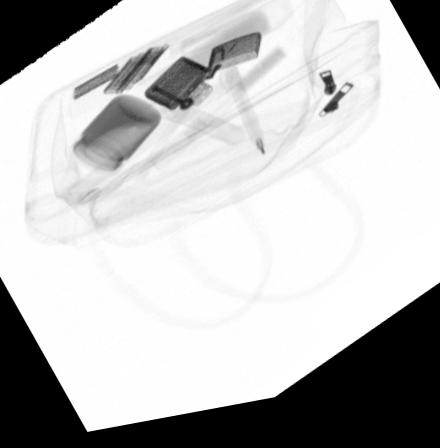Lighter: (144, 40, 263, 119)
